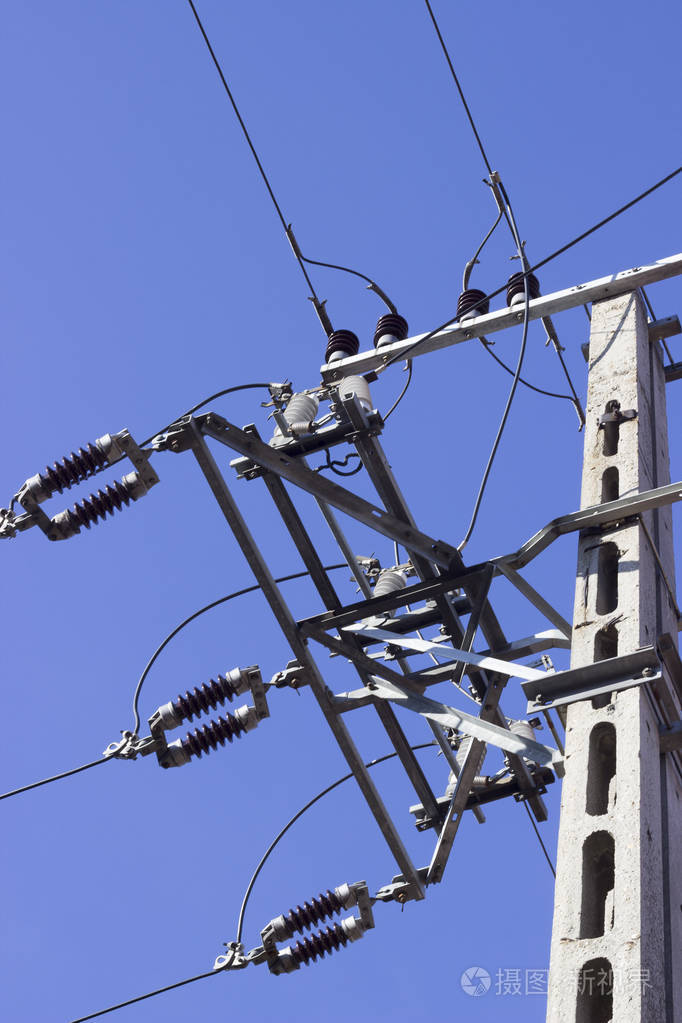insulator: (39, 441, 108, 494), (64, 484, 134, 534), (177, 674, 234, 723), (181, 713, 242, 757), (281, 893, 343, 934), (291, 924, 349, 967)
